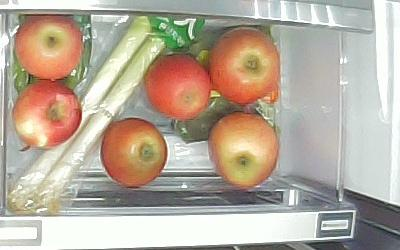apple: (208, 112, 281, 190), (211, 27, 279, 105), (99, 118, 169, 188), (13, 80, 82, 149), (14, 14, 81, 80), (146, 53, 212, 120)
